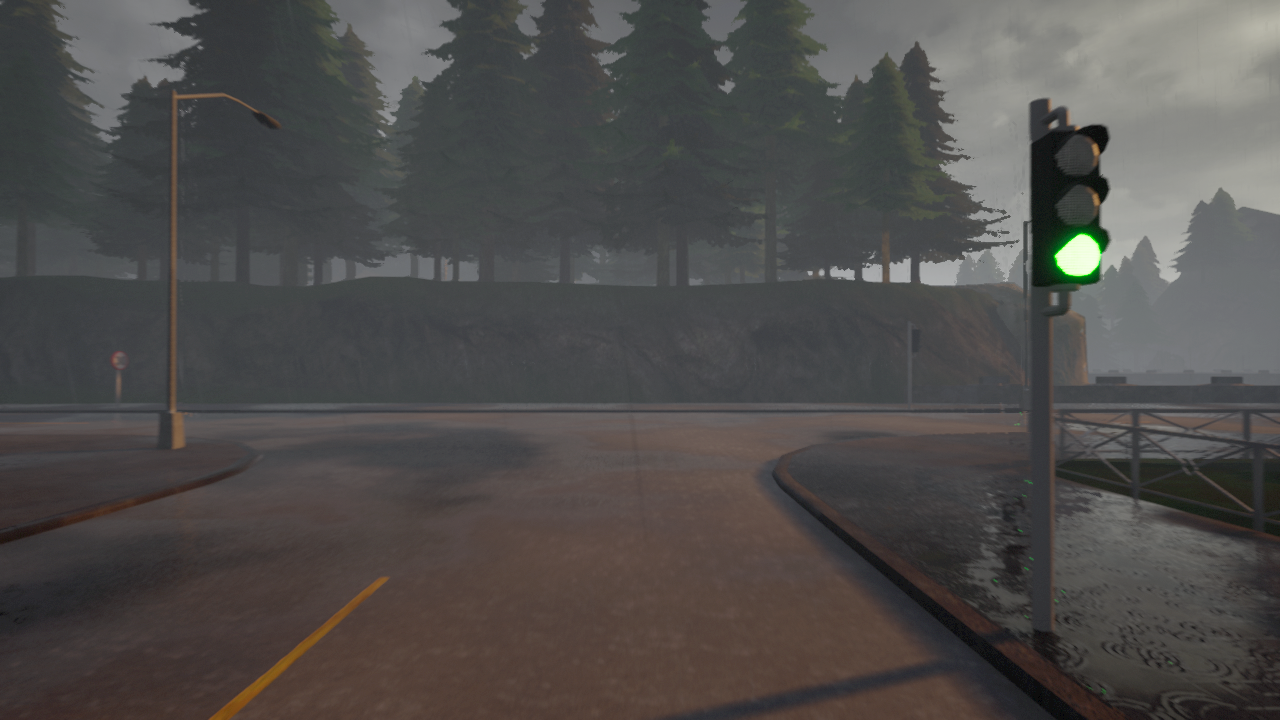green: (1027, 122, 1114, 299)
